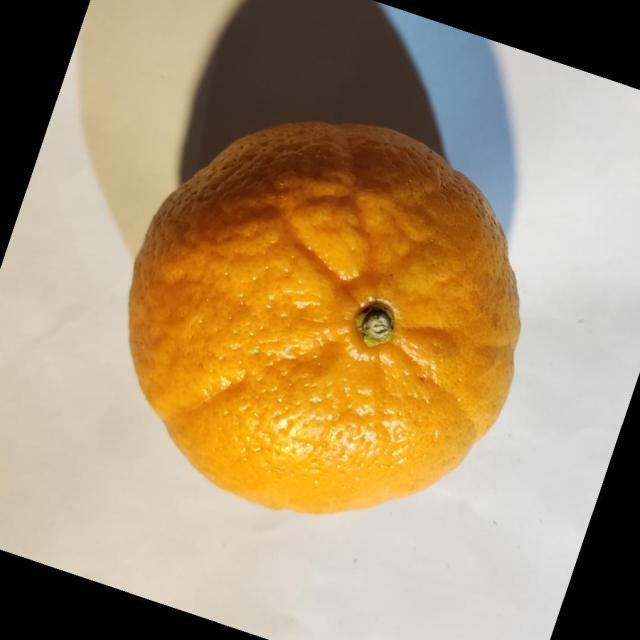agrume: (127, 119, 521, 515)
